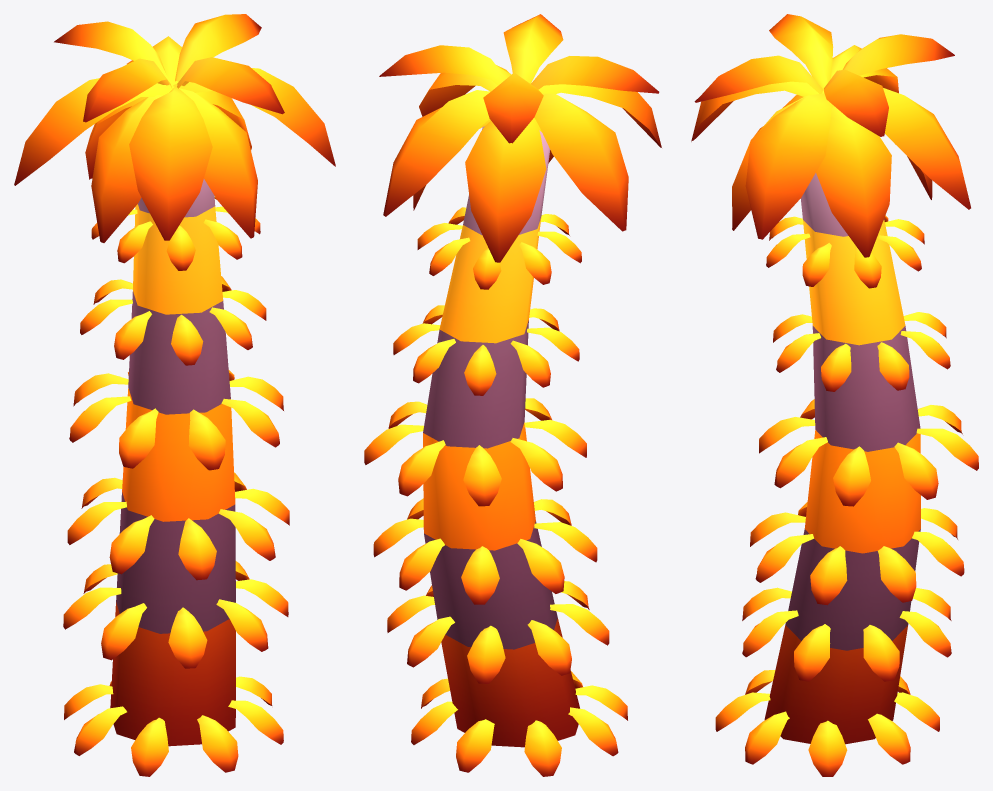
Rendered from golden_step_palm.glb.
3 views of the same model, side by side, from view 1: azimuth 30°, elevation 25°; view 2: azimuth 150°, elevation 25°; view 3: azimuth 270°, elevation 25° (orthographic).
Visible parts, largest first — view 1: Golden Step Palm; view 2: Golden Step Palm; view 3: Golden Step Palm.
Part boxes in pixels (box(x1,y1,x2,y2)): Golden Step Palm: box(14, 14, 335, 776); Golden Step Palm: box(364, 14, 661, 776); Golden Step Palm: box(691, 14, 978, 776).
Size of the model in its own units: 1.06 by 2.66 by 1.02.
1 material, 1 textured.
